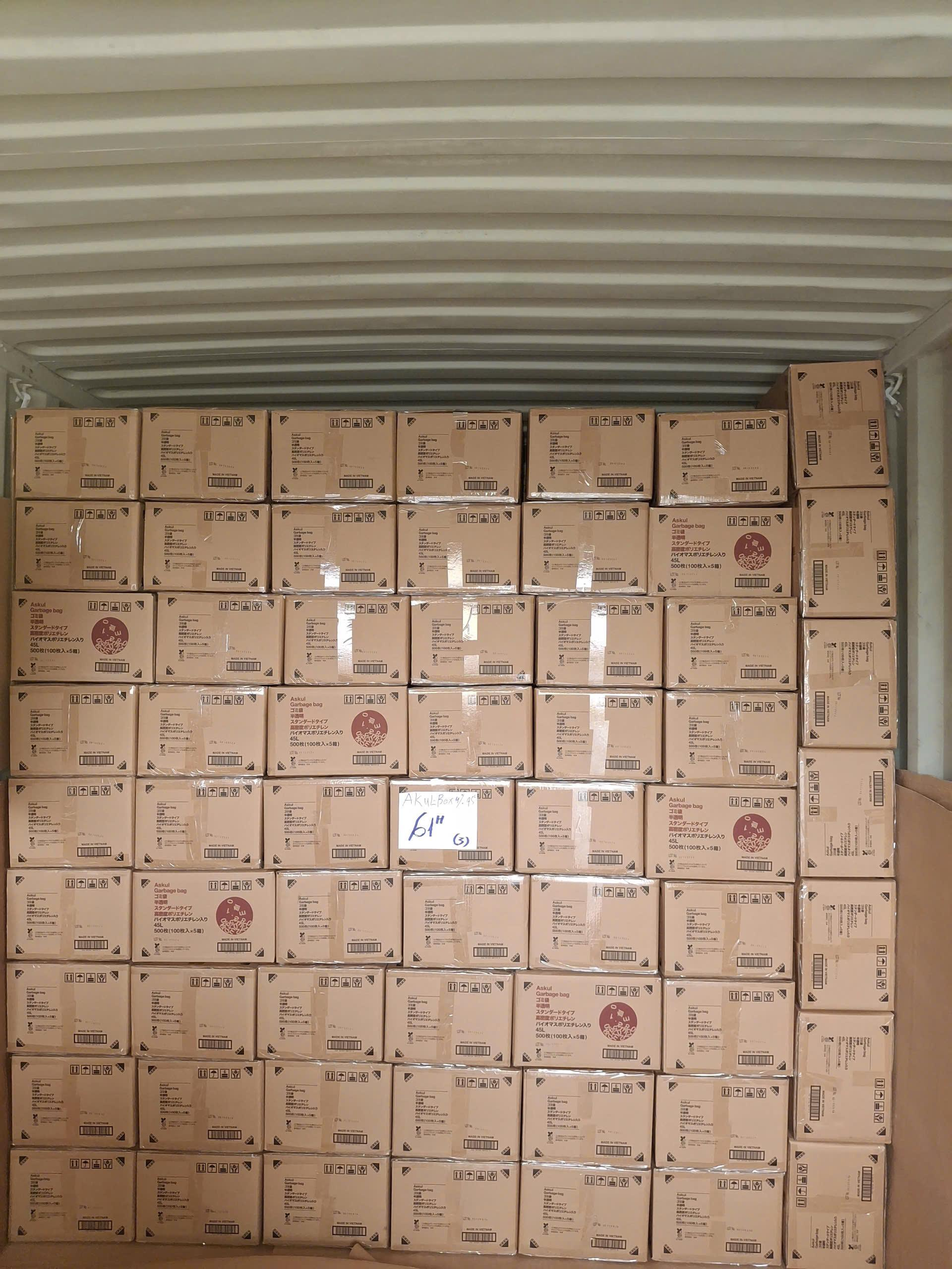carton: (515, 973, 667, 1073), (655, 504, 805, 599), (515, 1070, 660, 1166), (785, 362, 892, 490), (655, 785, 799, 880), (515, 1161, 649, 1263), (651, 1166, 785, 1268), (527, 875, 667, 972), (516, 779, 653, 877), (795, 880, 897, 1011), (796, 491, 899, 619), (798, 745, 899, 874), (795, 1014, 896, 1142), (666, 977, 791, 1080), (787, 1142, 889, 1268), (132, 869, 271, 961), (663, 594, 799, 688), (405, 683, 539, 778), (797, 620, 897, 747), (662, 693, 798, 785), (148, 592, 286, 682), (258, 966, 386, 1063), (383, 970, 507, 1070), (264, 1060, 393, 1156), (661, 1073, 787, 1171), (13, 594, 152, 682), (10, 1148, 136, 1245), (400, 876, 530, 970), (393, 1158, 515, 1258), (533, 594, 657, 692), (407, 597, 533, 693), (139, 408, 268, 501), (9, 1053, 135, 1148), (132, 776, 262, 868), (9, 778, 136, 872), (261, 1153, 384, 1250), (660, 409, 785, 504), (664, 883, 790, 977), (529, 408, 655, 502), (131, 967, 257, 1061), (271, 409, 397, 502), (5, 960, 128, 1055), (136, 1059, 261, 1152), (391, 1064, 512, 1160), (395, 410, 521, 502), (395, 503, 528, 590), (264, 777, 393, 866), (536, 689, 662, 780), (269, 686, 403, 771), (523, 502, 648, 593), (13, 409, 138, 500), (13, 502, 140, 591), (282, 596, 409, 685), (137, 1153, 257, 1247), (143, 503, 270, 591), (136, 687, 265, 773), (273, 873, 396, 963), (5, 871, 128, 961), (271, 504, 395, 593), (11, 684, 139, 769), (390, 778, 510, 868)
